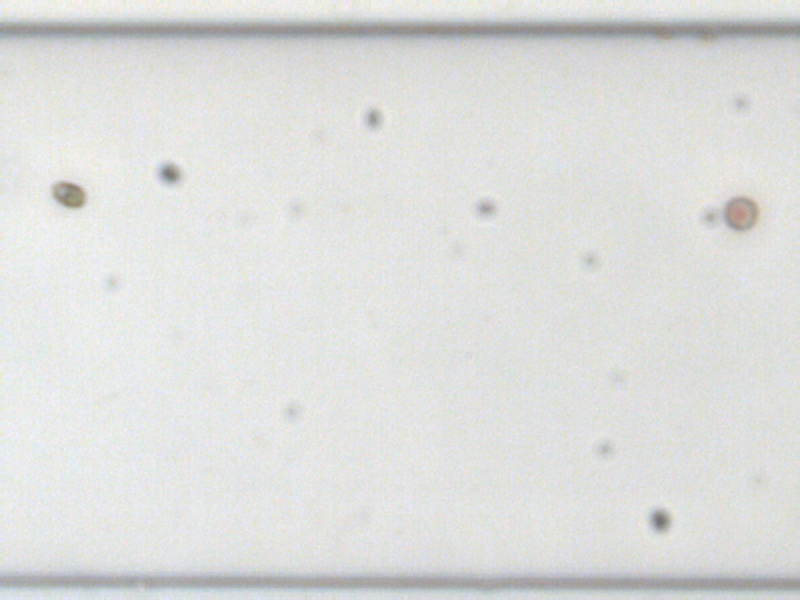Dunaliella salina: (45, 177, 88, 209)
Porphyridium: (721, 195, 760, 230)
